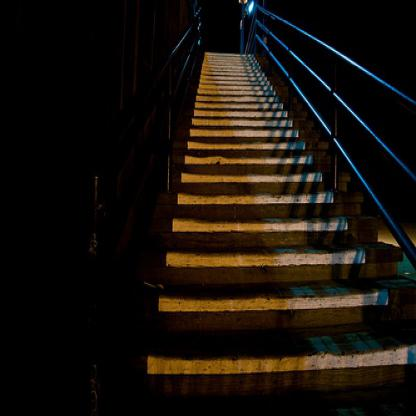stairs: (171, 241, 358, 416)
